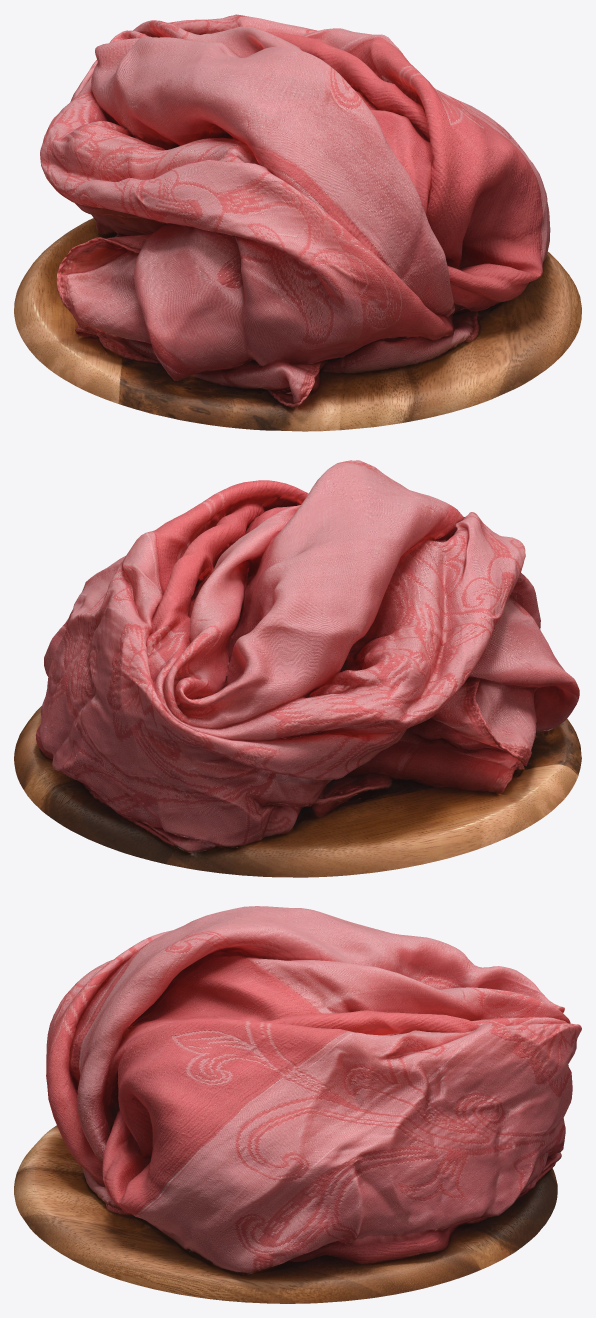
Rendered from KoreanHandmade_GLB.glb.
3 views of the same model, one above another, from view 1: azimuth 30°, elevation 25°; view 2: azimuth 150°, elevation 25°; view 3: azimuth 270°, elevation 25° (orthographic). The views are drawn at different scales.
Parts seen in each view (by area): view 1: Korean_2K_2, Korean_2K_1; view 2: Korean_2K_1, Korean_2K_2; view 3: Korean_2K_1, Korean_2K_2.
Part boxes in pixels (x1,y1,x2,y2): Korean_2K_2: (53,47,581,431); Korean_2K_1: (14,14,507,371); Korean_2K_1: (14,493,545,877); Korean_2K_2: (109,460,581,815); Korean_2K_1: (275,907,581,1303); Korean_2K_2: (14,906,306,1303).
Size of the model in its own units: 0.4966 by 0.2622 by 0.5222.
3 materials, 3 textured.
